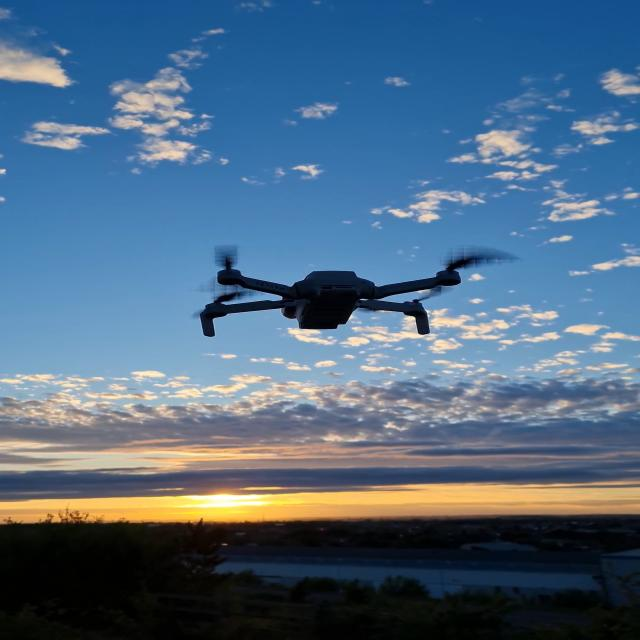Drone: (180, 251, 501, 335)
